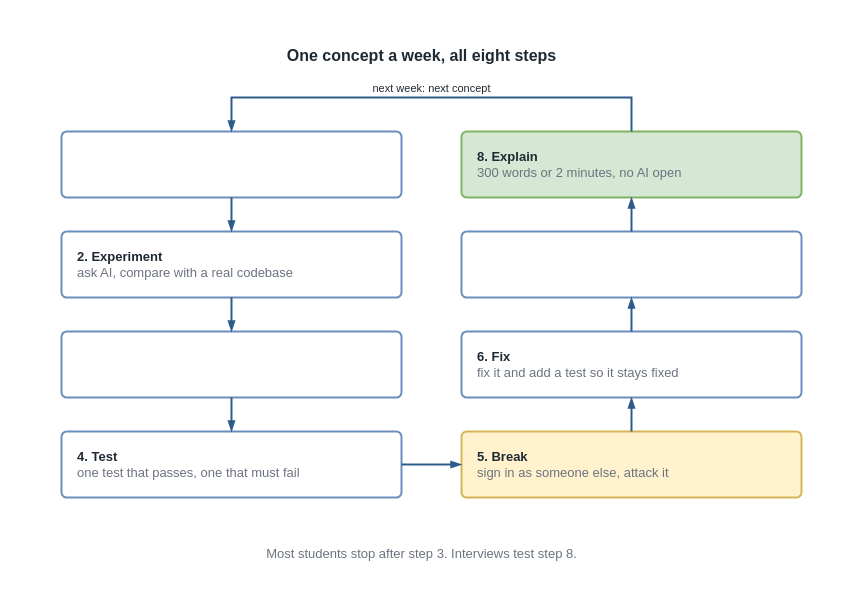
Some shapes in this 842 by 606 pixel diagram are drawn without their labels. Each missing label, with the centre of its shape:
"1. Learn read the official docs, one-sentence summary" goes at [231,164].
"3. Build your own version, without copying" goes at [231,364].
"7. Deploy a rule on your laptop protects nobody" goes at [631,264].
